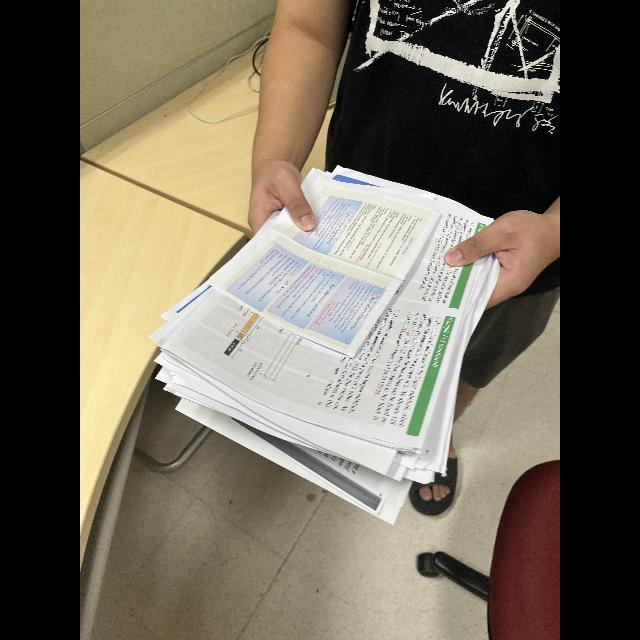reuseable_paper: (144, 164, 512, 528)
